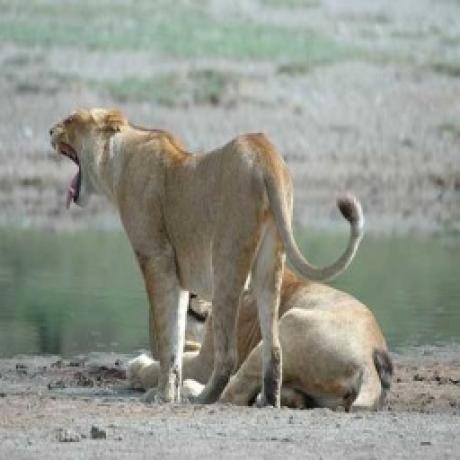Lion: (45, 100, 372, 403), (130, 268, 397, 411)
